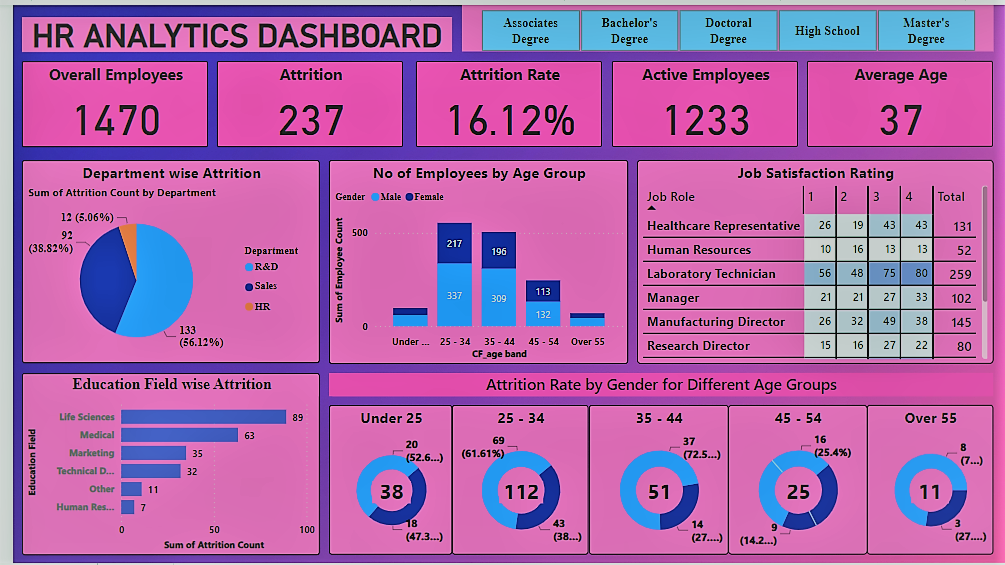

The dashboard page shown, as its layout file describes it:
{"tool":"powerbi","page":{"name":"Page 1","canvas":[1280,720],"ordinal":0},"visuals":[{"type":"card","title":"Overall Employees","fields":{"Values":["Sum(HR data.Employee Count)"]},"box":[11.7,72.1,239.9,110.7],"z":0},{"type":"card","title":"Attrition","fields":{"Values":["Sum(HR data.Attrition Count)"]},"box":[263.4,72.1,239.9,110.7],"z":1000},{"type":"card","title":"Attrition Rate","fields":{"Values":["HR data.Attrition Rate"]},"box":[520.1,72.1,239.9,110.7],"z":2000},{"type":"card","title":"Active Employees","fields":{"Values":["HR data.Active Employees"]},"box":[773.4,72.1,239.9,110.7],"z":3000},{"type":"card","title":"Average Age","fields":{"Values":["Avg(HR data.Age)"]},"box":[1025,72.1,239.9,110.7],"z":4000},{"type":"pieChart","title":"Department wise Attrition","fields":{"Category":["HR data.Department"],"Y":["Sum(HR data.Attrition Count)"]},"box":[11.7,199.6,384.2,261.7],"z":5000},{"type":"columnChart","title":"No of Employees by Age Group","fields":{"Category":["HR data.CF_age band"],"Y":["Sum(HR data.Employee Count)"],"Series":["HR data.Gender"]},"box":[407.7,199.6,385.8,263.4],"z":6000},{"type":"pivotTable","title":"Job Satisfaction Rating","fields":{"Rows":["HR data.Job Role"],"Columns":["HR data.Job Satisfaction"],"Values":["Sum(HR data.Employee Count)"]},"box":[805.2,199.6,459.7,263.4],"z":7000},{"type":"barChart","title":"Education Field wise Attrition","fields":{"Category":["HR data.Education Field"],"Y":["Sum(HR data.Attrition Count)"]},"box":[11.7,474.8,384.2,234.9],"z":8000},{"type":"donutChart","title":"Under 25","fields":{"Category":["HR data.Gender"],"Y":["Sum(HR data.Attrition Count)"],"Series":["HR data.CF_age band"]},"box":[407.7,516.7,159.4,192.9],"z":9000},{"type":"textbox","title":"Attrition  Rate by  Gender for  Different Age Groups","box":[407.7,474.8,857.2,30.2],"z":10000},{"type":"donutChart","title":" 25 - 34","fields":{"Category":["HR data.Gender"],"Y":["Sum(HR data.Attrition Count)"],"Series":["HR data.CF_age band"]},"box":[567,516.7,176.1,192.9],"z":11000},{"type":"donutChart","title":"35 - 44","fields":{"Category":["HR data.Gender"],"Y":["Sum(HR data.Attrition Count)"],"Series":["HR data.CF_age band"]},"box":[743.2,516.7,179.5,192.9],"z":12000},{"type":"donutChart","title":"45 - 54","fields":{"Category":["HR data.Gender"],"Y":["Sum(HR data.Attrition Count)"],"Series":["HR data.CF_age band"]},"box":[922.7,516.7,179.5,192.9],"z":13000},{"type":"donutChart","title":"Over 55","fields":{"Category":["HR data.Gender"],"Y":["Sum(HR data.Attrition Count)"],"Series":["HR data.CF_age band"]},"box":[1102.2,516.7,162.7,192.9],"z":14000},{"type":"card","fields":{"Values":["Sum(HR data.Attrition Count)"]},"box":[463,614,50.3,28.5],"z":15000},{"type":"card","fields":{"Values":["Sum(HR data.Attrition Count)"]},"box":[627.4,614,57,28.5],"z":16000},{"type":"card","fields":{"Values":["Sum(HR data.Attrition Count)"]},"box":[808.6,614,50.3,28.5],"z":17000},{"type":"card","fields":{"Values":["Sum(HR data.Attrition Count)"]},"box":[988.1,614,50.3,28.5],"z":17001},{"type":"card","fields":{"Values":["Sum(HR data.Attrition Count)"]},"box":[1159.2,614,48.7,28.5],"z":17002},{"type":"textbox","title":"HR  ANALYTICS  DASHBOARD  ","box":[11.7,15.1,555.3,45.3],"z":17003},{"type":"slicer","fields":{"Values":["HR data.Education"]},"box":[578.8,0,686.1,60.4],"z":17004}]}

Visuals, with their boxes in screenshot pixels (x1, y1, x2, y2), scaled from the page's 1280x720 canvas onto the 1005x565 screenshot:
"Overall Employees" card: x1=9, y1=57, x2=198, y2=143
"Attrition" card: x1=207, y1=57, x2=395, y2=143
"Attrition Rate" card: x1=408, y1=57, x2=597, y2=143
"Active Employees" card: x1=607, y1=57, x2=796, y2=143
"Average Age" card: x1=805, y1=57, x2=993, y2=143
"Department wise Attrition" pieChart: x1=9, y1=157, x2=311, y2=362
"No of Employees by Age Group" columnChart: x1=320, y1=157, x2=623, y2=363
"Job Satisfaction Rating" pivotTable: x1=632, y1=157, x2=993, y2=363
"Education Field wise Attrition" barChart: x1=9, y1=373, x2=311, y2=557
"Under 25" donutChart: x1=320, y1=405, x2=445, y2=557
"Attrition  Rate by  Gender for  Different Age Groups" textbox: x1=320, y1=373, x2=993, y2=396
" 25 - 34" donutChart: x1=445, y1=405, x2=583, y2=557
"35 - 44" donutChart: x1=584, y1=405, x2=724, y2=557
"45 - 54" donutChart: x1=724, y1=405, x2=865, y2=557
"Over 55" donutChart: x1=865, y1=405, x2=993, y2=557
card - Sum(HR data.Attrition Count): x1=364, y1=482, x2=403, y2=504
card - Sum(HR data.Attrition Count): x1=493, y1=482, x2=537, y2=504
card - Sum(HR data.Attrition Count): x1=635, y1=482, x2=674, y2=504
card - Sum(HR data.Attrition Count): x1=776, y1=482, x2=815, y2=504
card - Sum(HR data.Attrition Count): x1=910, y1=482, x2=948, y2=504
"HR  ANALYTICS  DASHBOARD  " textbox: x1=9, y1=12, x2=445, y2=47
slicer - HR data.Education: x1=454, y1=0, x2=993, y2=47
